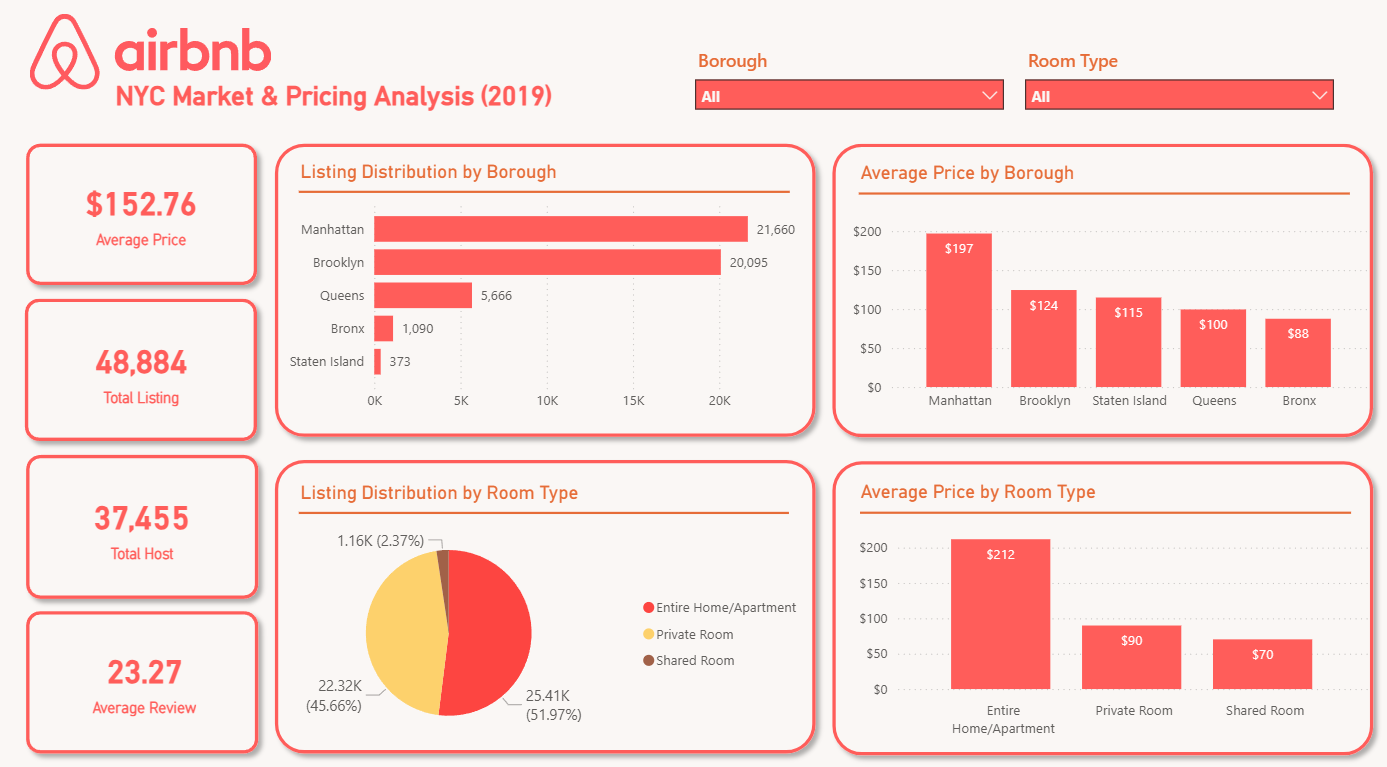

What the dashboard file says about the page in this screenshot:
{"tool":"powerbi","page":{"name":"Main Dashboard","canvas":[1280,720],"ordinal":0},"visuals":[{"type":"image","box":[0,21.4,291.4,68.6],"z":0,"group":"g4"},{"type":"slicer","fields":{"Values":["Airbnb Fact Table.Borough"]},"box":[630,47.1,300,85.7],"z":0,"group":"g3"},{"type":"shape","title":"Shape Card","box":[24.3,554.3,228.6,147.1],"z":0},{"type":"slicer","fields":{"Values":["Airbnb Fact Table.Room Type"]},"box":[930,47.1,300,85.7],"z":1000,"group":"g3"},{"type":"textbox","box":[108.6,77.1,468.6,58.6],"z":1000,"group":"g4"},{"type":"shape","title":"Shape Card","box":[24.3,412.9,228.6,148.6],"z":1000},{"type":"shape","title":"Shape Card","box":[22.9,271.4,228.6,147.1],"z":2000},{"type":"cardVisual","title":"Card - Review","fields":{"Data":["Card Measure.Average Review"]},"box":[34.7,566.7,210,127.1],"z":2000,"group":"g2"},{"type":"cardVisual","title":"Card - Total Host","fields":{"Data":["Card Measure.Total Host"]},"box":[33.2,426.7,210,127.1],"z":2500,"group":"g2"},{"type":"shape","title":"Shape Card","box":[23.8,130,227.5,146.2],"z":3000},{"type":"cardVisual","title":"Card - Total Listing","fields":{"Data":["Card Measure.Total Listing"]},"box":[31.8,285.3,211.4,127.1],"z":3000,"group":"g2"},{"type":"columnChart","fields":{"Y":["Avg(Airbnb Fact Table.Listing Price)"],"Category":["Airbnb Fact Table.Room Type"]},"box":[784.5,460.1,473.8,225],"z":3000,"group":"g1"},{"type":"pieChart","title":"Listing Distribution by Room Type","fields":{"Y":["Count(Airbnb Fact Table.Listing ID)"],"Category":["Airbnb Fact Table.Room Type"]},"box":[236.3,480.4,510,207.5],"z":3250,"group":"g1"},{"type":"columnChart","fields":{"Y":["Avg(Airbnb Fact Table.Listing Price)"],"Category":["Airbnb Fact Table.Borough"]},"box":[778.1,186.3,476.7,204.4],"z":3375,"group":"g1"},{"type":"cardVisual","title":"Card - Average Price","fields":{"Data":["Card Measure.Average Price"]},"box":[31.8,142.4,211.4,127.1],"z":3500,"group":"g2"},{"type":"clusteredBarChart","title":"Listing Distribution by Borough","fields":{"Category":["Airbnb Fact Table.Borough"],"Y":["Count(Airbnb Fact Table.Listing ID)"]},"box":[261.4,180.4,485.9,210.6],"z":3500,"group":"g1"},{"type":"shape","box":[755,418.8,508.8,285],"z":5000},{"type":"shape","box":[249.3,417.7,508.6,284.3],"z":5500},{"type":"shape","box":[755.3,130.1,508.6,284.3],"z":6000},{"type":"shape","box":[249.6,130,508.6,284],"z":7000},{"type":"textbox","box":[277.2,150,264.4,32.2],"z":8000,"group":"g7"},{"type":"textbox","box":[784.7,150.4,264.3,32.9],"z":8000,"group":"g6"},{"type":"group","id":"g1","title":"Chart Section","box":[236.3,180.4,1021.9,507.5],"z":8000},{"type":"textbox","box":[784.5,440.4,264.3,32.9],"z":8000,"group":"g5"},{"type":"textbox","box":[277.2,441.2,264.4,32.2],"z":8000,"group":"g8"},{"type":"group","id":"g2","title":"Card Section","box":[31.8,142.4,212.9,551.4],"z":9000},{"type":"shape","box":[280.5,154.4,445.6,57.8],"z":9000,"group":"g7"},{"type":"shape","box":[787.6,154.7,445.7,58.6],"z":9000,"group":"g6"},{"type":"shape","box":[788.8,446.1,445.7,57.1],"z":9000,"group":"g5"},{"type":"shape","box":[281,446.2,445,57.5],"z":9000,"group":"g8"},{"type":"group","id":"g3","title":"Slicer Section","box":[630,47.1,600,85.7],"z":10000},{"type":"group","id":"g4","title":"Title Section","box":[0,21.4,577.1,114.3],"z":11000},{"type":"group","id":"g5","title":"Group 1","box":[784.5,440.4,450,62.9],"z":12000},{"type":"group","id":"g6","title":"Group 1","box":[784.7,150.4,448.6,62.9],"z":13000},{"type":"group","id":"g7","title":"Group 1","box":[277.2,150,448.9,62.2],"z":14000},{"type":"group","id":"g8","title":"Group 1","box":[277.2,441.2,448.8,62.5],"z":15000}]}

Visuals, with their boxes in screenshot pixels (x1, y1, x2, y2), scaled from the page's 1280x720 canvas onto the 1387x767 screenshot:
image: bbox(0, 23, 316, 96)
slicer - Airbnb Fact Table.Borough: bbox(683, 50, 1008, 141)
"Shape Card" shape: bbox(26, 590, 274, 747)
slicer - Airbnb Fact Table.Room Type: bbox(1008, 50, 1333, 141)
textbox: bbox(118, 82, 625, 145)
"Shape Card" shape: bbox(26, 440, 274, 598)
"Shape Card" shape: bbox(25, 289, 273, 446)
"Card - Review" cardVisual: bbox(38, 604, 265, 739)
"Card - Total Host" cardVisual: bbox(36, 455, 264, 590)
"Shape Card" shape: bbox(26, 138, 272, 294)
"Card - Total Listing" cardVisual: bbox(34, 304, 264, 439)
columnChart - Avg(Airbnb Fact Table.Listing Price) x Airbnb Fact Table.Room Type: bbox(850, 490, 1363, 730)
"Listing Distribution by Room Type" pieChart: bbox(256, 512, 809, 733)
columnChart - Avg(Airbnb Fact Table.Listing Price) x Airbnb Fact Table.Borough: bbox(843, 198, 1360, 416)
"Card - Average Price" cardVisual: bbox(34, 152, 264, 287)
"Listing Distribution by Borough" clusteredBarChart: bbox(283, 192, 810, 417)
shape: bbox(818, 446, 1369, 750)
shape: bbox(270, 445, 821, 748)
shape: bbox(818, 139, 1370, 441)
shape: bbox(270, 138, 822, 441)
textbox: bbox(300, 160, 587, 194)
textbox: bbox(850, 160, 1137, 195)
"Chart Section" group: bbox(256, 192, 1363, 733)
textbox: bbox(850, 469, 1136, 504)
textbox: bbox(300, 470, 587, 504)
"Card Section" group: bbox(34, 152, 265, 739)
shape: bbox(304, 164, 787, 226)
shape: bbox(853, 165, 1336, 227)
shape: bbox(855, 475, 1338, 536)
shape: bbox(304, 475, 787, 537)
"Slicer Section" group: bbox(683, 50, 1333, 141)
"Title Section" group: bbox(0, 23, 625, 145)
"Group 1" group: bbox(850, 469, 1338, 536)
"Group 1" group: bbox(850, 160, 1336, 227)
"Group 1" group: bbox(300, 160, 787, 226)
"Group 1" group: bbox(300, 470, 787, 537)
